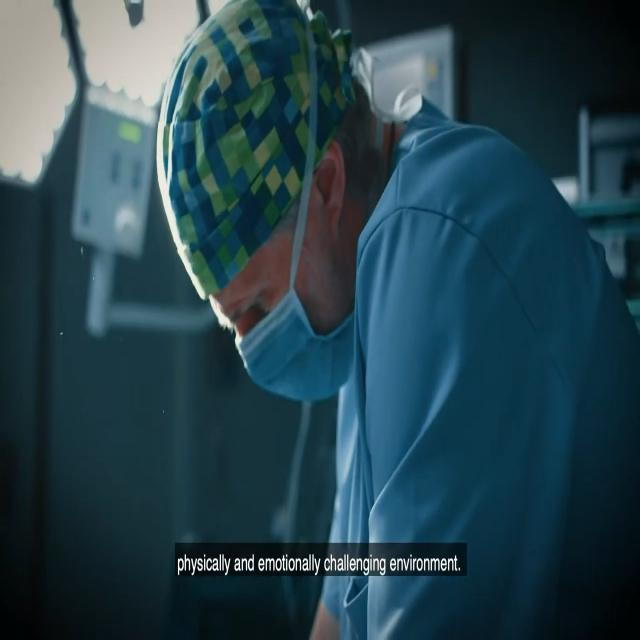Doctor: (132, 1, 549, 415)
